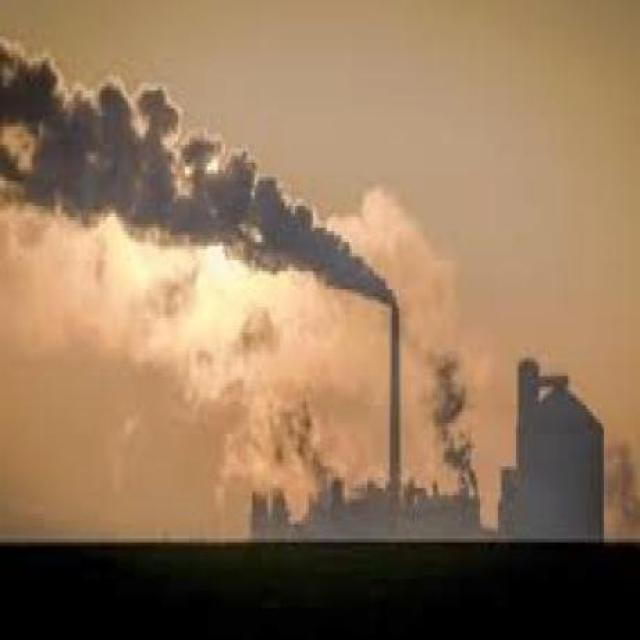Smoke: (0, 43, 400, 302), (212, 372, 342, 488), (428, 352, 503, 498)
